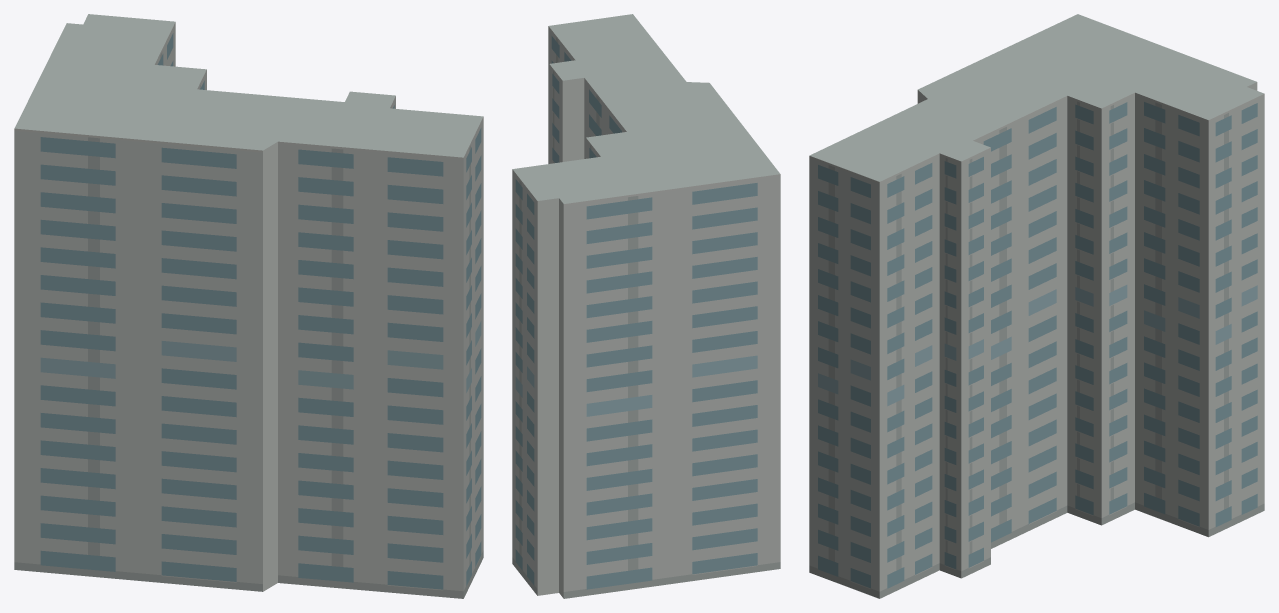
The model's file is residential-54ebf650-e64d-4d4a-a87c-b35faa1a4a20.glb.
3 renders of one model, left to right at view 1: azimuth 30°, elevation 25°; view 2: azimuth 150°, elevation 25°; view 3: azimuth 270°, elevation 25°, orthographic. The views are drawn at different scales.
Visible parts, largest first — view 1: residential-54ebf650-e64d-4d4a-a87c-b35faa1a4a20.tmp; view 2: residential-54ebf650-e64d-4d4a-a87c-b35faa1a4a20.tmp; view 3: residential-54ebf650-e64d-4d4a-a87c-b35faa1a4a20.tmp.
Part boxes in pixels (x1,y1,x2,y2): residential-54ebf650-e64d-4d4a-a87c-b35faa1a4a20.tmp: [14, 14, 483, 598]; residential-54ebf650-e64d-4d4a-a87c-b35faa1a4a20.tmp: [512, 14, 780, 598]; residential-54ebf650-e64d-4d4a-a87c-b35faa1a4a20.tmp: [809, 14, 1264, 598].
Size of the model in its own units: 42.17 by 48.8 by 48.31.
